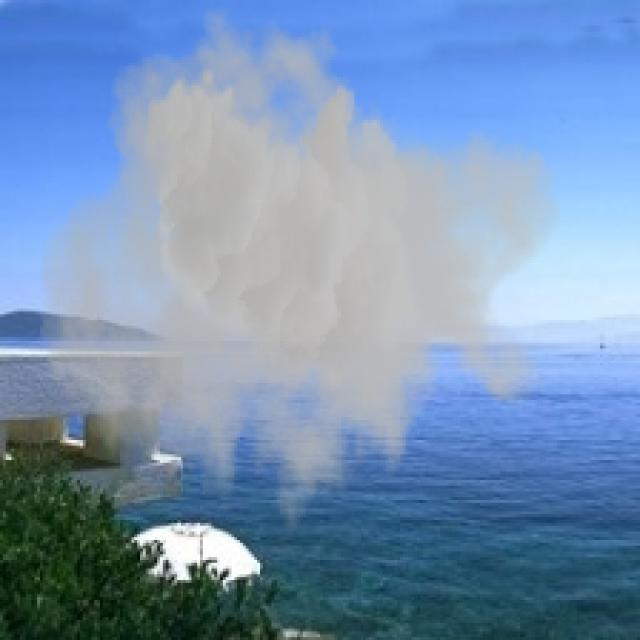Smoke: (37, 5, 563, 558)
